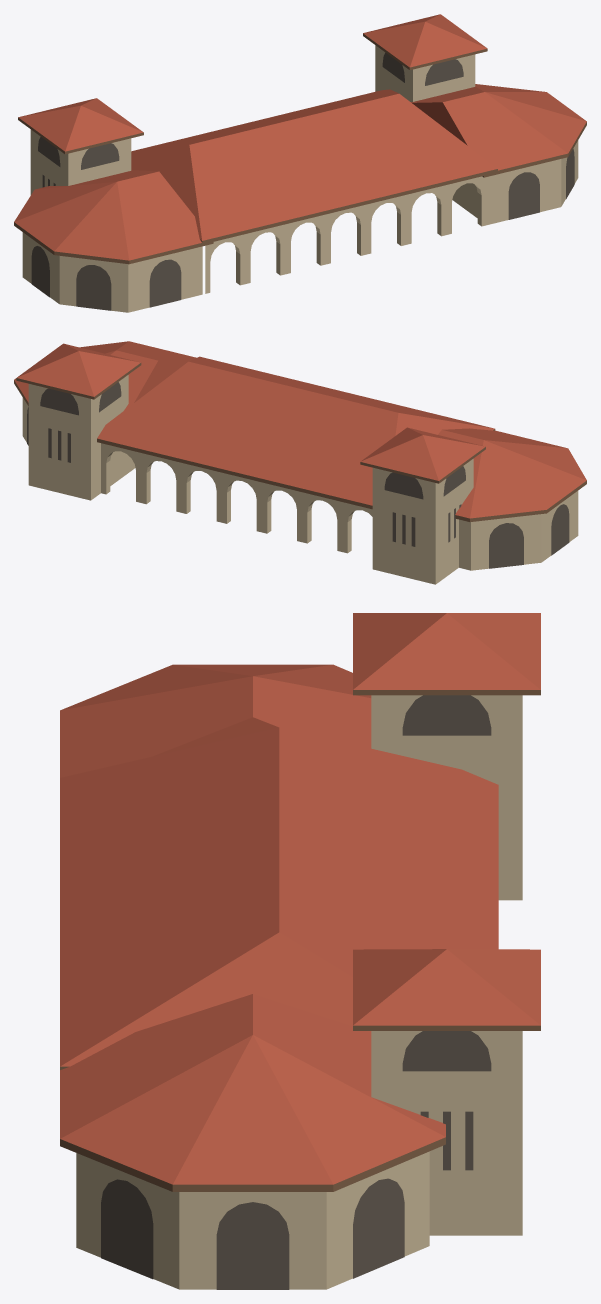
Rendered from stl-worlds-fair-pavilion.glb.
3 renders of one model, top to bottom at view 1: azimuth 30°, elevation 25°; view 2: azimuth 150°, elevation 25°; view 3: azimuth 270°, elevation 25°, orthographic. The views are drawn at different scales.
Parts seen in each view (by area): view 1: World's Fair Pavilion; view 2: World's Fair Pavilion; view 3: World's Fair Pavilion.
Part boxes in pixels (x1,y1,x2,y2): World's Fair Pavilion: [14, 14, 586, 312]; World's Fair Pavilion: [14, 341, 586, 584]; World's Fair Pavilion: [60, 613, 540, 1289].
Bounding box in the file's own units: 60.9 × 14 × 23.8.
